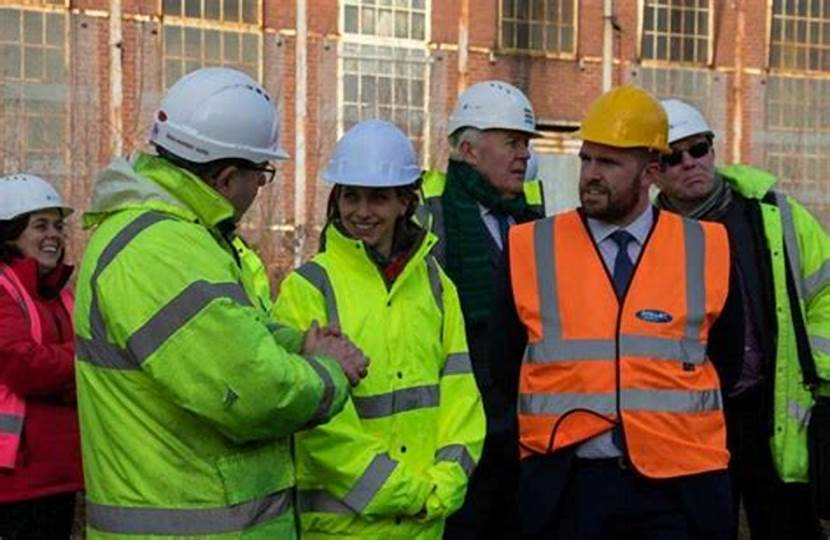Helmet: (131, 53, 298, 250), (312, 114, 436, 259), (556, 80, 679, 219), (440, 73, 551, 212), (649, 92, 736, 216), (1, 169, 76, 280)
Reflective vest: (74, 160, 298, 540), (281, 224, 488, 540), (507, 204, 735, 479)
